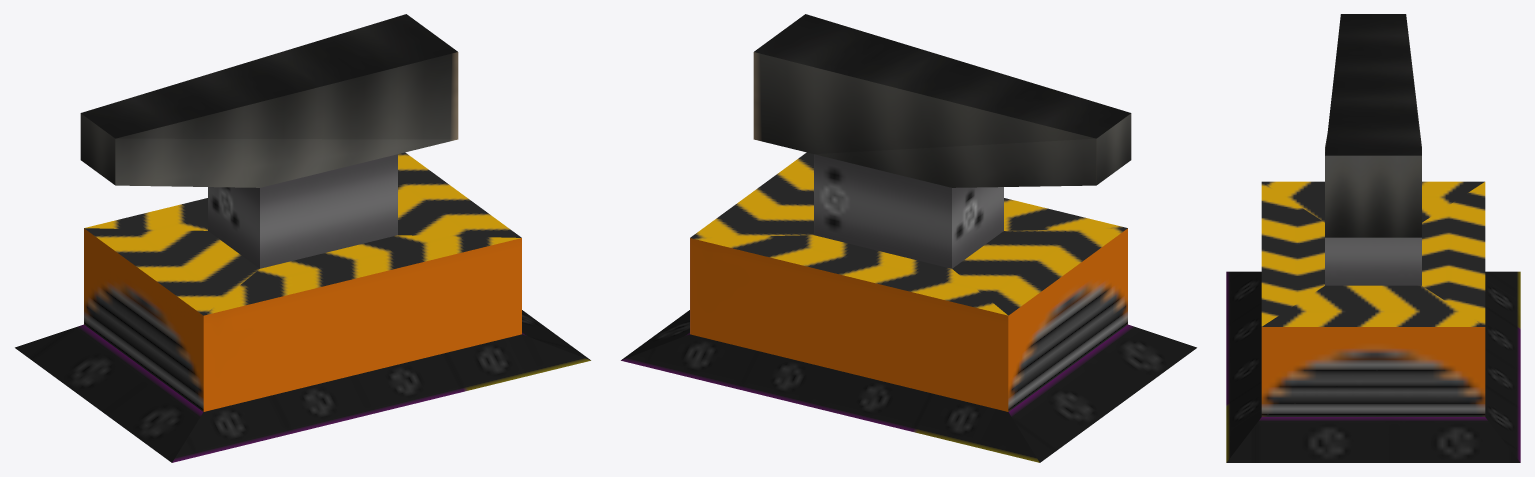
Rendered from Sander_2.fbx.
The picture shows the model from 3 angles, left to right: view 1: azimuth 30°, elevation 25°; view 2: azimuth 150°, elevation 25°; view 3: azimuth 270°, elevation 25°; orthographic projection. The views are drawn at different scales.
Parts seen in each view (by area): view 1: Maya_File_Assets:TexturedAssetsCurrent:joshimport:Sander_Ora; view 2: Maya_File_Assets:TexturedAssetsCurrent:joshimport:Sander_Ora; view 3: Maya_File_Assets:TexturedAssetsCurrent:joshimport:Sander_Ora.
Part boxes in pixels (x1,y1,x2,y2): Maya_File_Assets:TexturedAssetsCurrent:joshimport:Sander_Ora: (15, 14, 590, 462); Maya_File_Assets:TexturedAssetsCurrent:joshimport:Sander_Ora: (621, 14, 1196, 462); Maya_File_Assets:TexturedAssetsCurrent:joshimport:Sander_Ora: (1226, 14, 1520, 462).
Size of the model in its own units: 0.2659 by 0.1754 by 0.1729.
